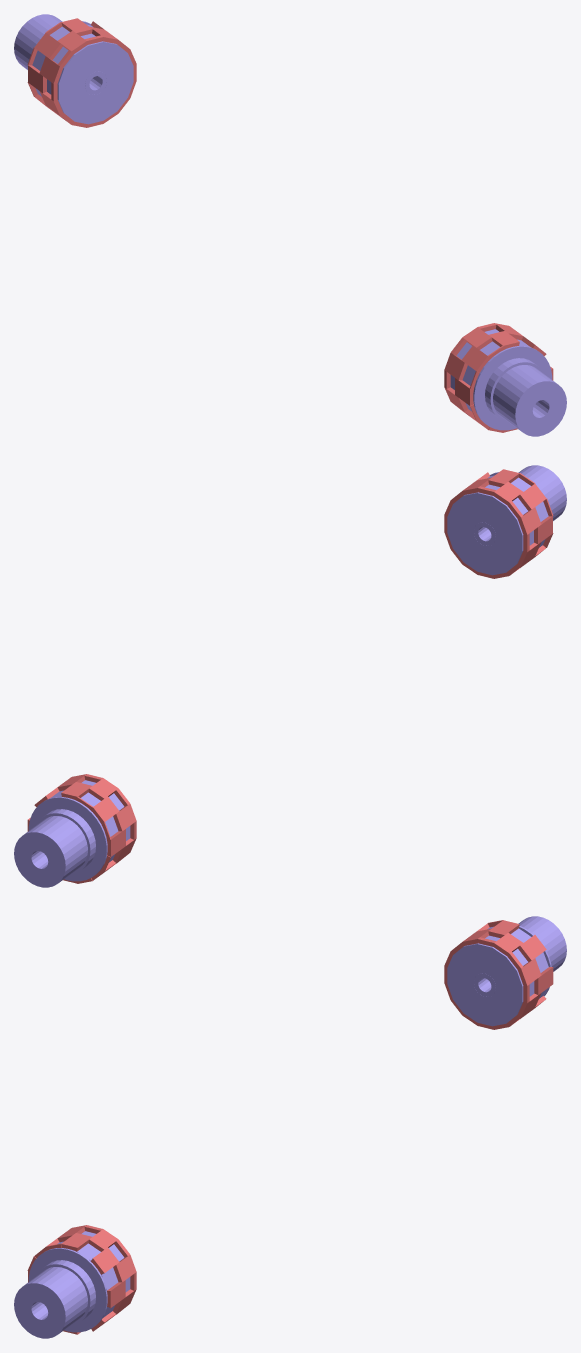
File: Small-Wheel-Hub.gltf
The picture shows the model from 3 angles, top to bottom: view 1: azimuth 30°, elevation 25°; view 2: azimuth 150°, elevation 25°; view 3: azimuth 330°, elevation 25°; orthographic projection.
Parts seen in each view (by area): view 1: _1F1E5C68, _1F137F38; view 2: _1F1E5C68, _1F137F38; view 3: _1F1E5C68, _1F137F38.
Boxes of the visible parts, x1,y1,x2,y2 form: _1F1E5C68: [14, 14, 566, 436]; _1F137F38: [27, 18, 553, 432]; _1F1E5C68: [14, 465, 566, 887]; _1F137F38: [27, 469, 553, 883]; _1F1E5C68: [14, 916, 566, 1338]; _1F137F38: [27, 920, 553, 1334].
Bounding box in the file's own units: 1.7 × 1.7 × 17.79.
